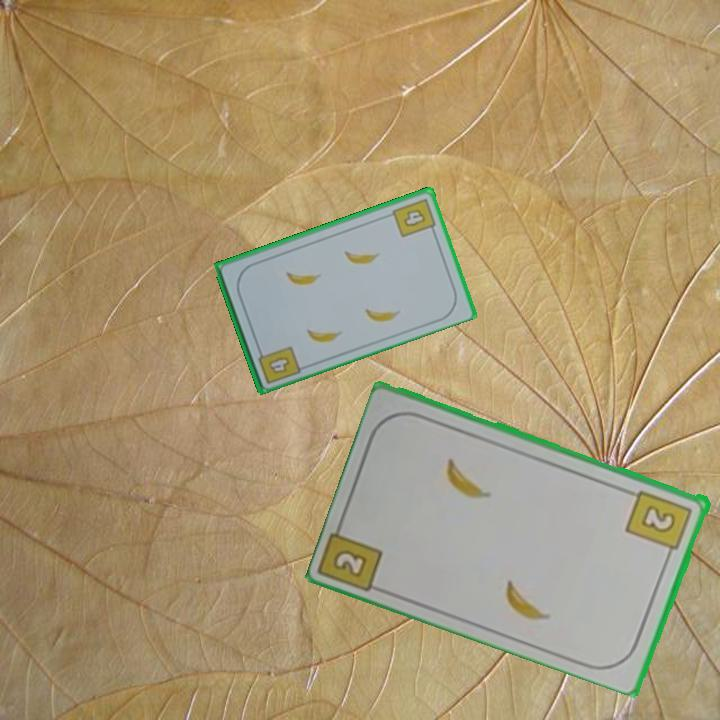2b: (623, 486, 696, 561), (330, 545, 371, 581)
4b: (389, 194, 439, 240), (254, 342, 303, 387)
